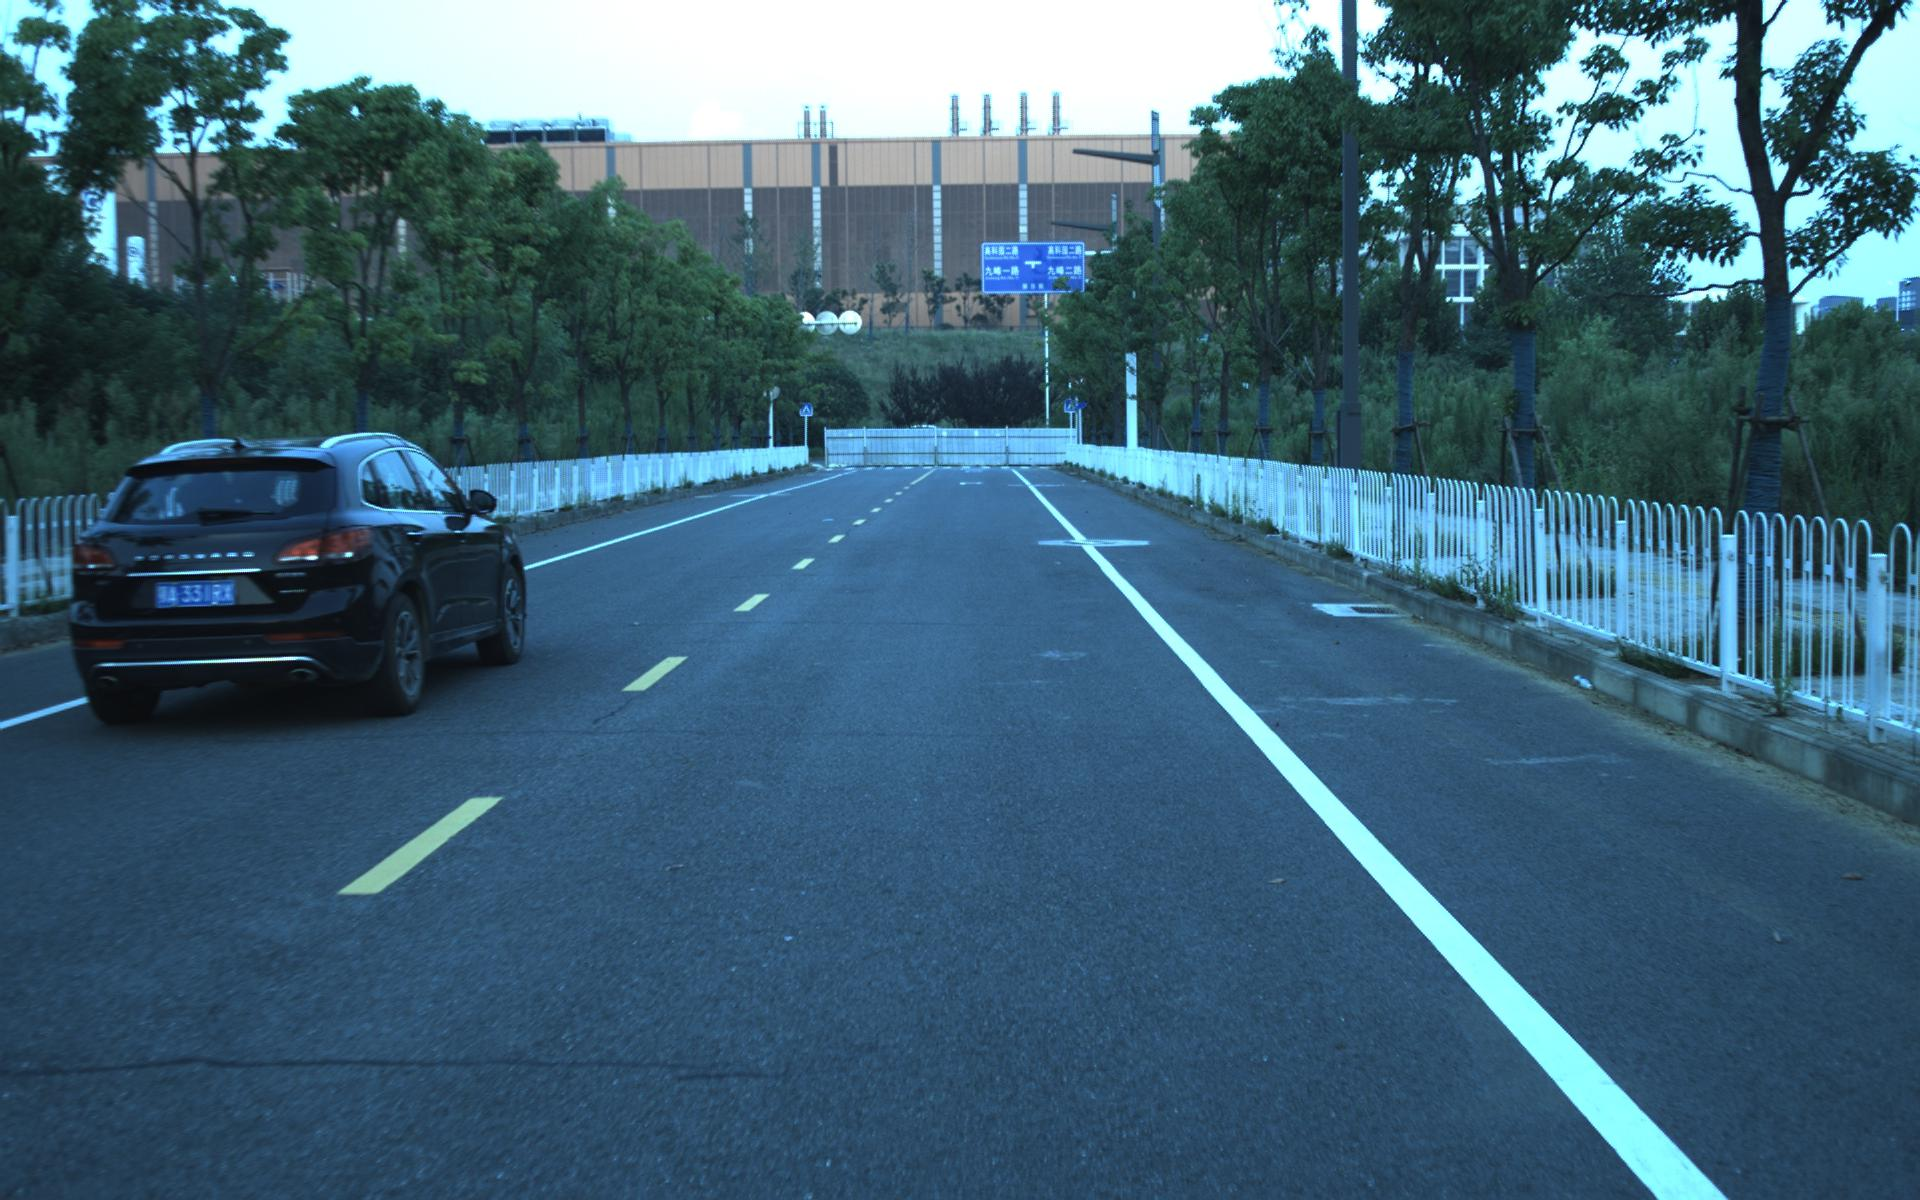Car: (48, 422, 531, 731)
